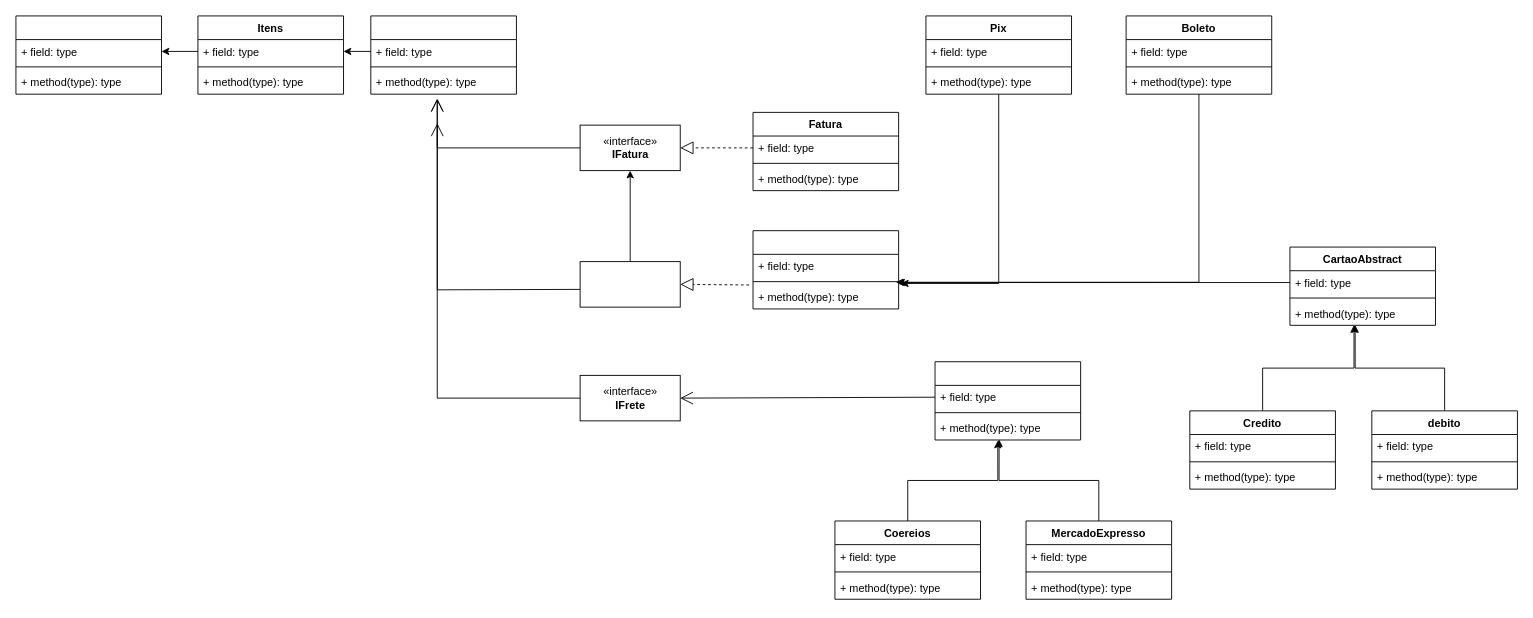
The diagram is 1533 pixels wide and 618 high, and some of its shapes have lost their labels. The shapes that lost their labels are listed below. From the top down, each one's box as (x1, y1, x2, y2) in pixels, then its label:
(15, 15, 162, 94): Produto
(370, 15, 516, 94): Pedido
(579, 261, 680, 307): «interface» IPagamento
(752, 230, 899, 309): PagamentoAbstract
(934, 361, 1081, 440): FreteAbstract
